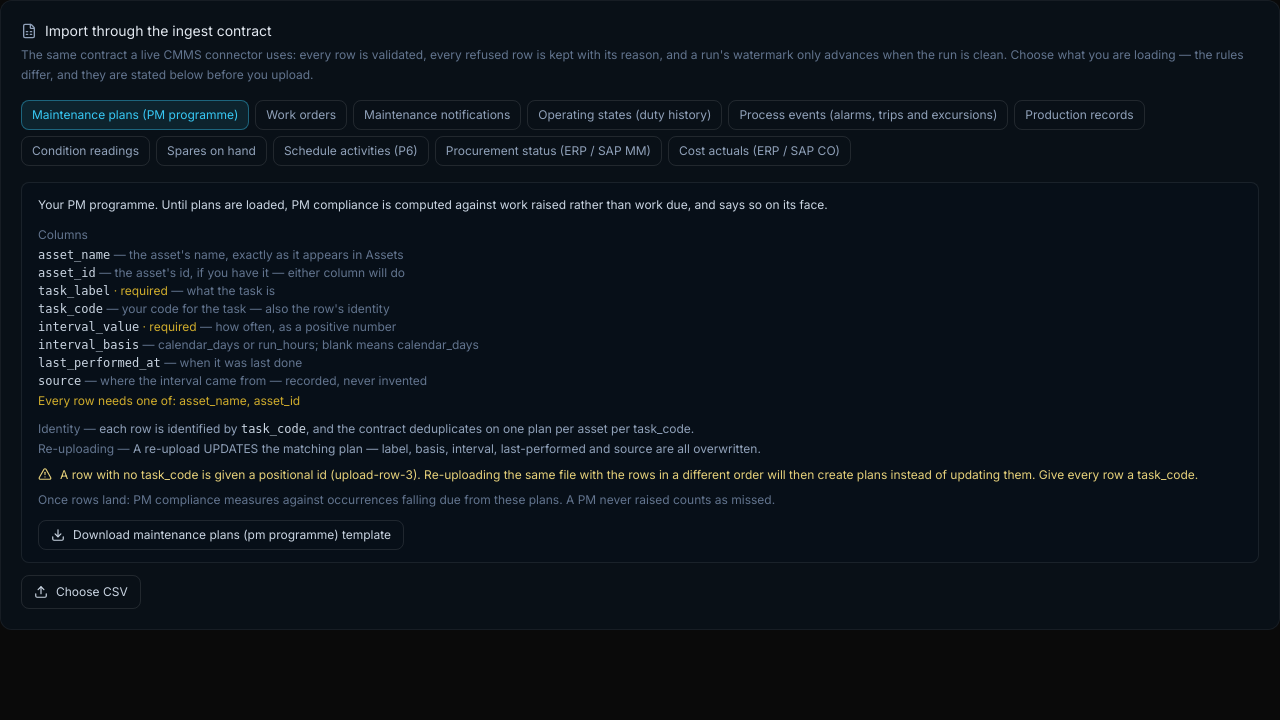
it: what the operator is told before uploading is per entity type › says UPDATES for a plan and DUPLICATE for a state, not one sentence for both
This screenshot has width=1280, height=720.
Expected: the text "A re-upload UPDATES the matching plan" is shown, [133,440,761,456]
Step 1. Click the button "Operating states (duty history)" → click(625, 115), box [527,100,722,130]
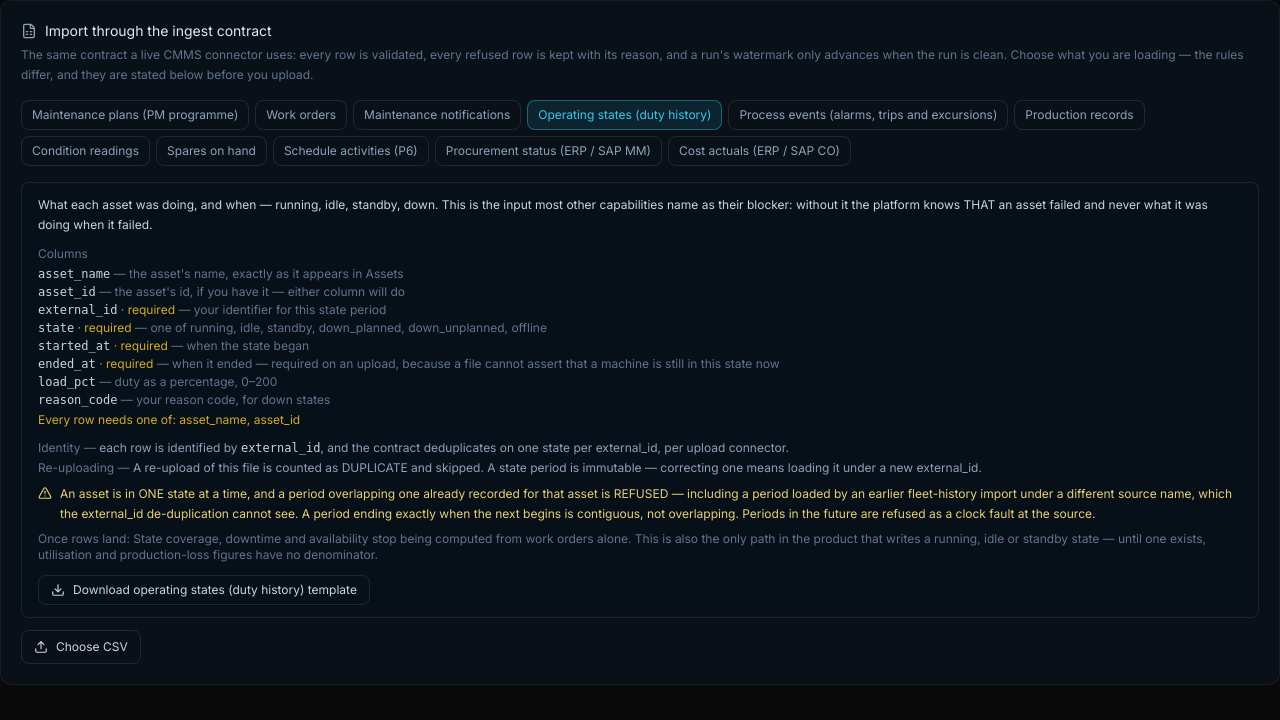
Expected: the text "counted as DUPLICATE and skipped" is shown, [133,460,982,475]
Expected: the text "A re-upload UPDATES the matching plan" is gone
